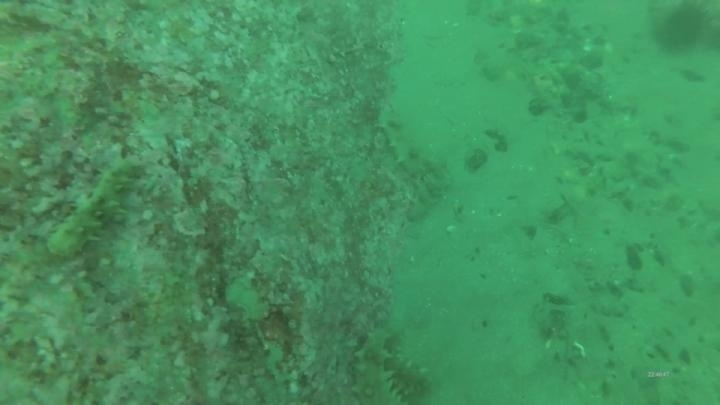echinus: (651, 2, 713, 56)
holothurian: (44, 156, 142, 261), (375, 102, 447, 184), (348, 322, 405, 404), (382, 330, 435, 403)
